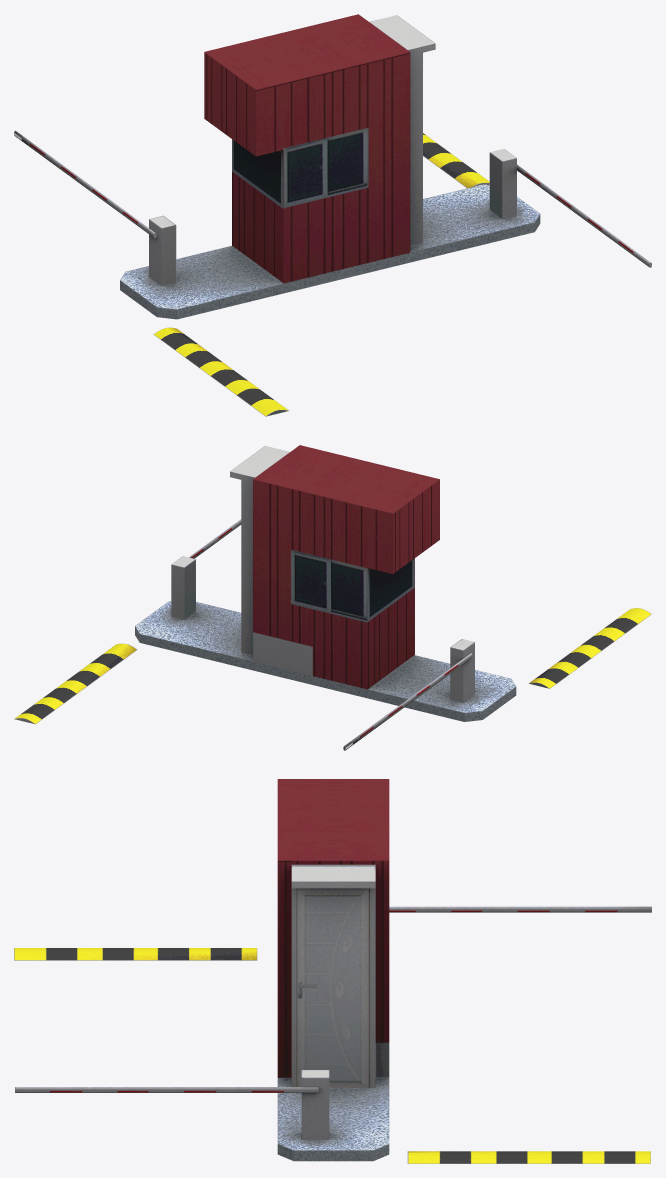
3 views of the same model, one above another, from view 1: azimuth 30°, elevation 25°; view 2: azimuth 150°, elevation 25°; view 3: azimuth 270°, elevation 25° (orthographic). The views are drawn at different scales.
Visible parts, largest first — view 1: 1008; view 2: 1008; view 3: 1008.
Part boxes in pixels (x1,y1,x2,y2): 1008: (14,14,651,416); 1008: (14,445,651,750); 1008: (14,779,651,1163).
Size of the model in its own units: 7.36 by 3.62 by 9.19.
Materials: 1 (1 with a texture image).
